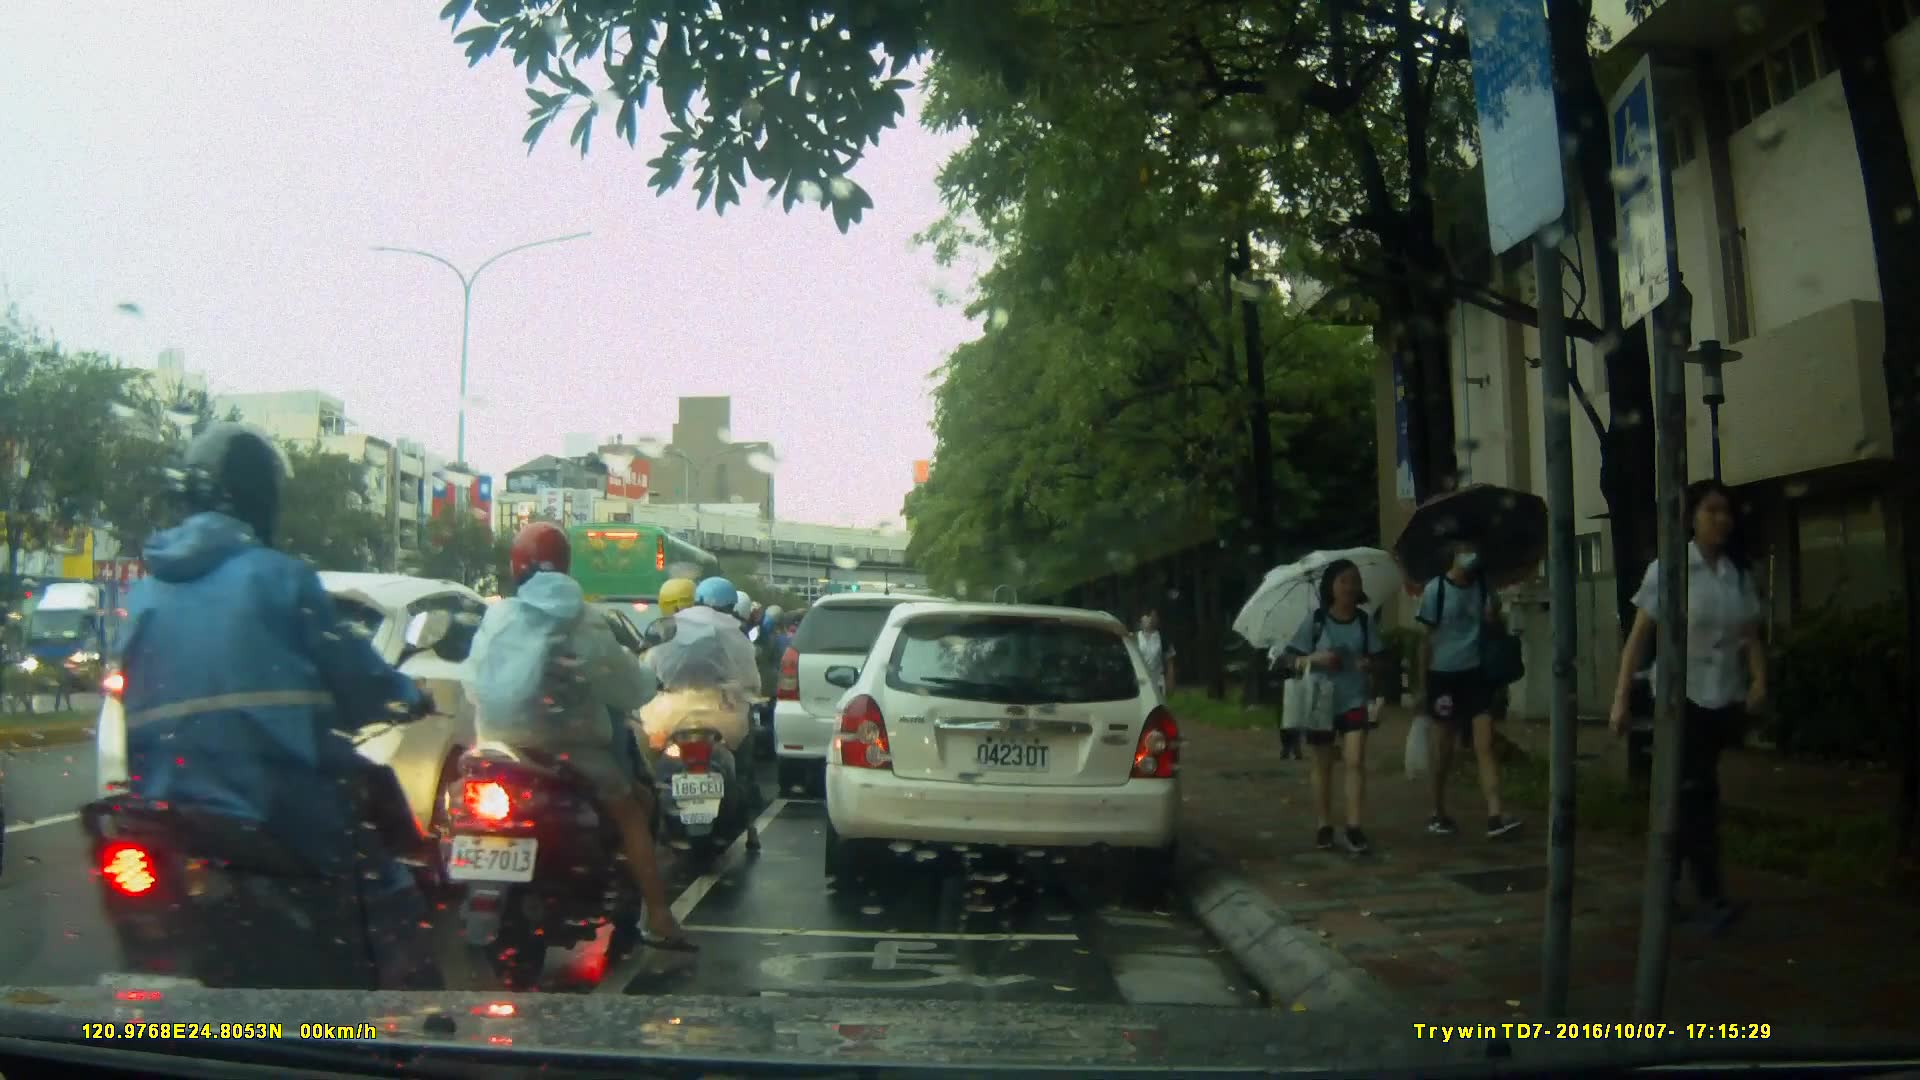pedestrian: (1632, 471, 1771, 934), (1403, 522, 1531, 852), (1286, 550, 1408, 870), (1268, 571, 1319, 770), (1125, 596, 1177, 758)
rider: (42, 421, 436, 1060), (441, 518, 706, 973), (624, 583, 774, 864), (666, 590, 763, 802)
vehicle: (101, 569, 599, 883), (822, 604, 1187, 883), (774, 595, 995, 802), (559, 521, 742, 664), (20, 576, 199, 697)
